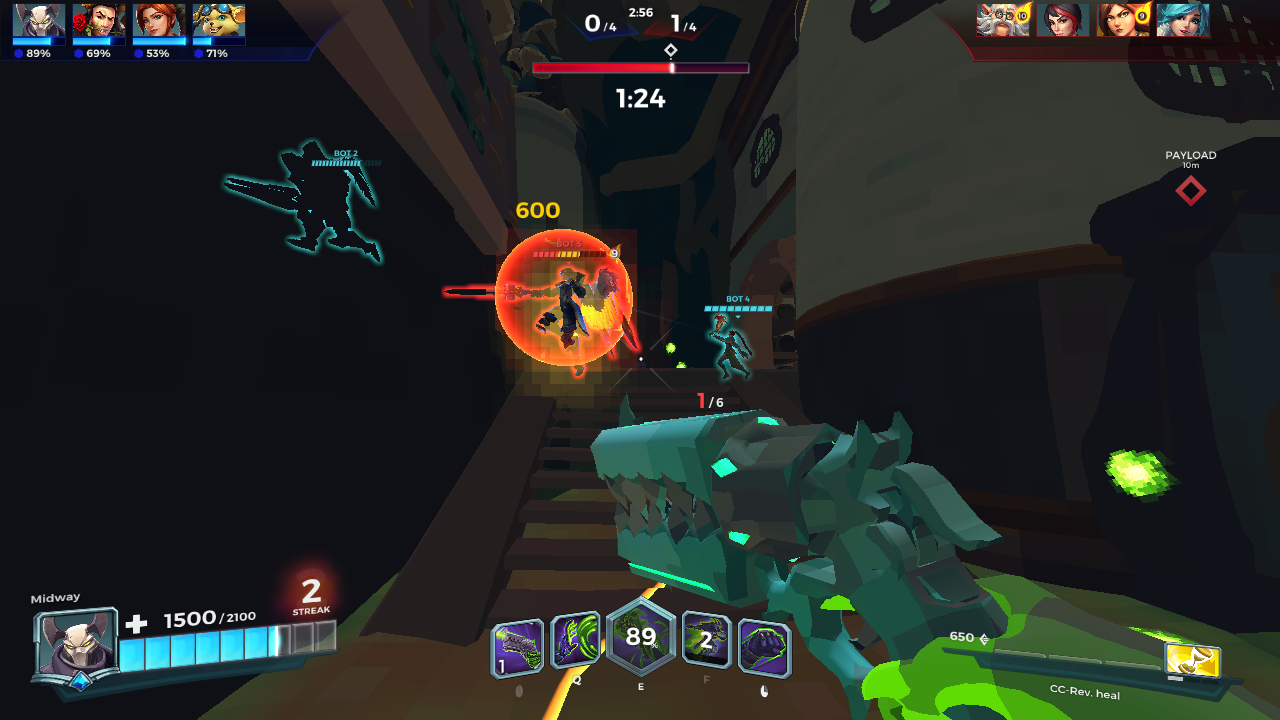model: (440, 262, 637, 384)
